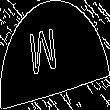M_S: (39, 26, 71, 84)
